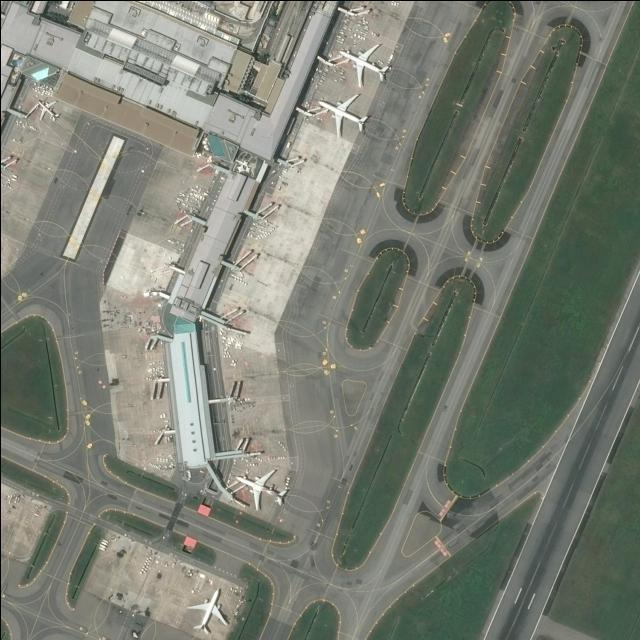Aircraft: (317, 93, 370, 139), (339, 43, 391, 88), (235, 468, 288, 512), (186, 589, 230, 637), (36, 98, 61, 122)
